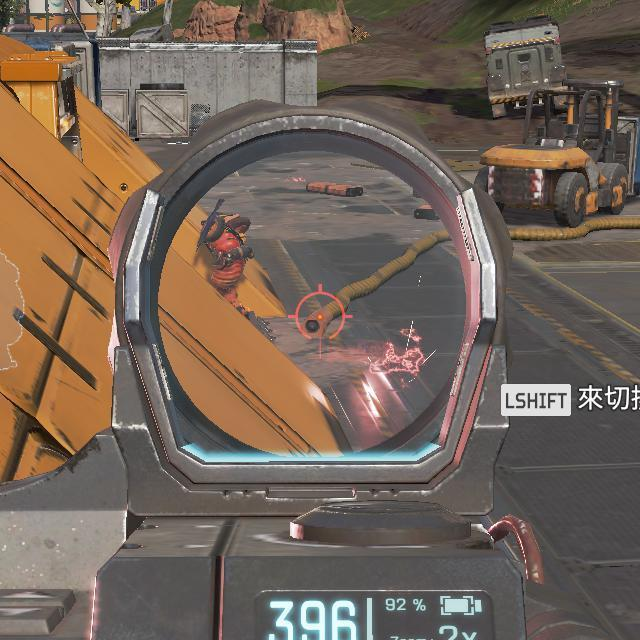avatar: (194, 205, 255, 316)
